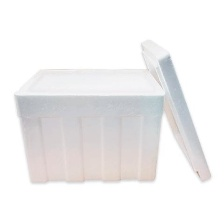foam_box: (9, 32, 215, 190)
